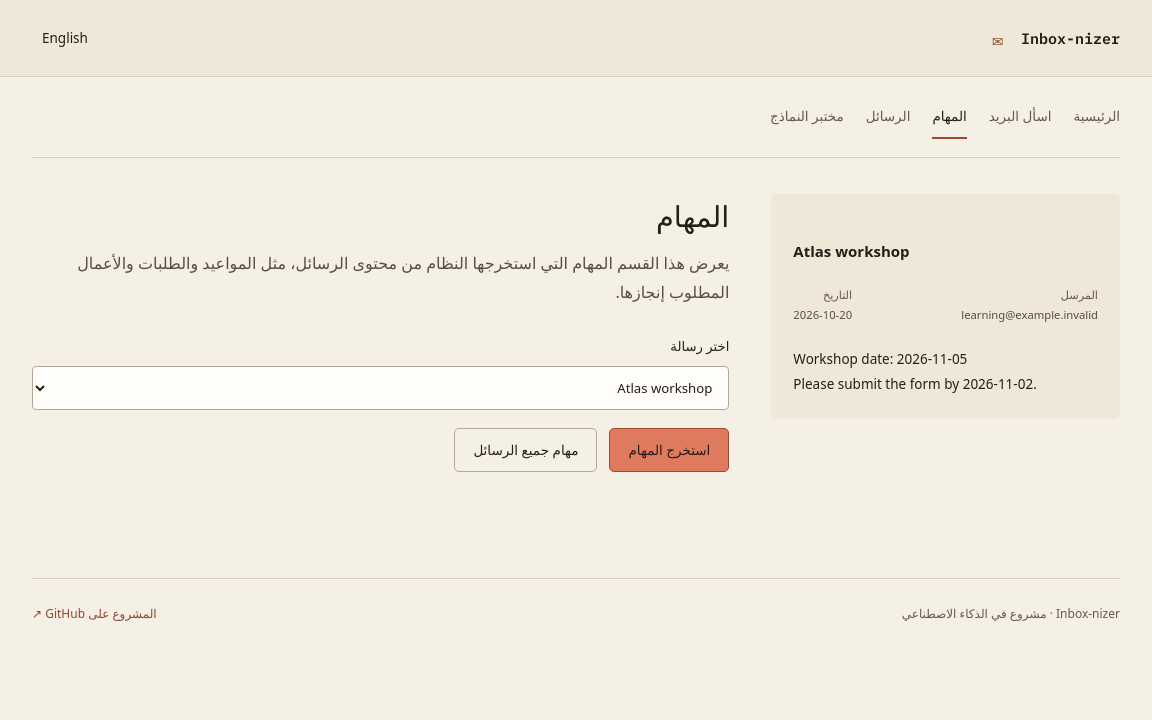
Arabic labels and RTL remain consistent without Gmail requests or reference metadata
Click the button with aria-label "Switch to English" at x=65, y=38, box 32,16 -> 98,60
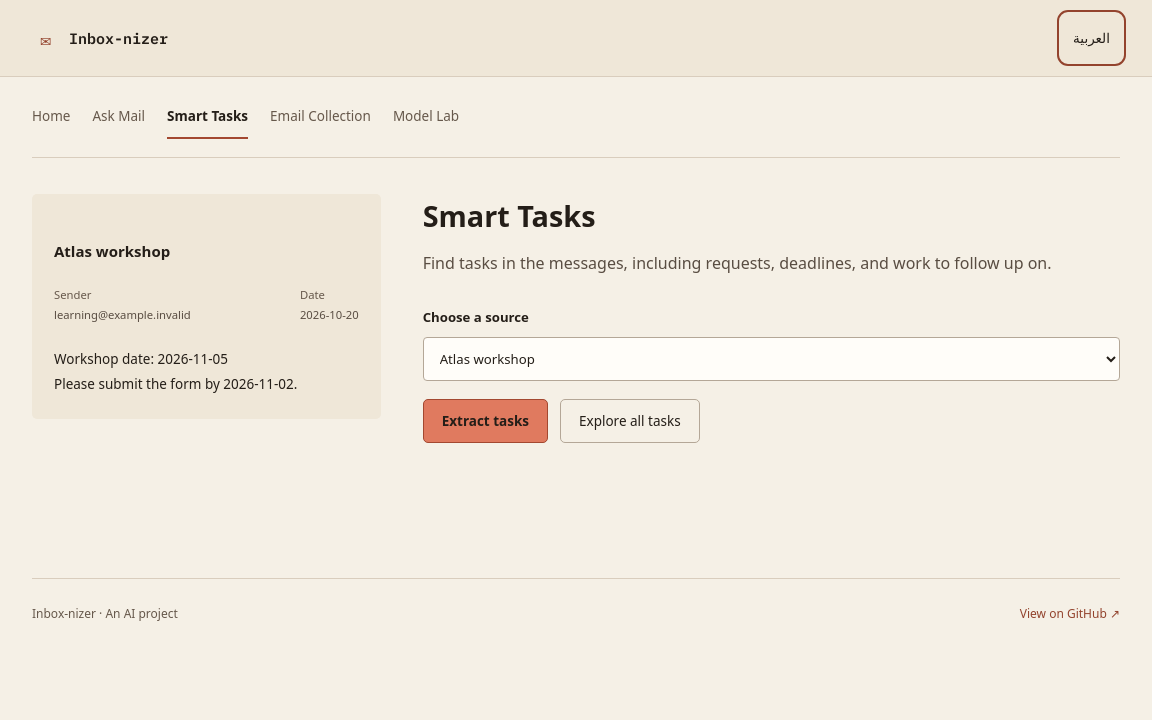
Expected: the dropdown labelled "Choose a source" is shown, 423,337 -> 1120,381
Click the button with aria-label "التبديل للعربية" at x=1092, y=38, box 1063,16 -> 1120,60
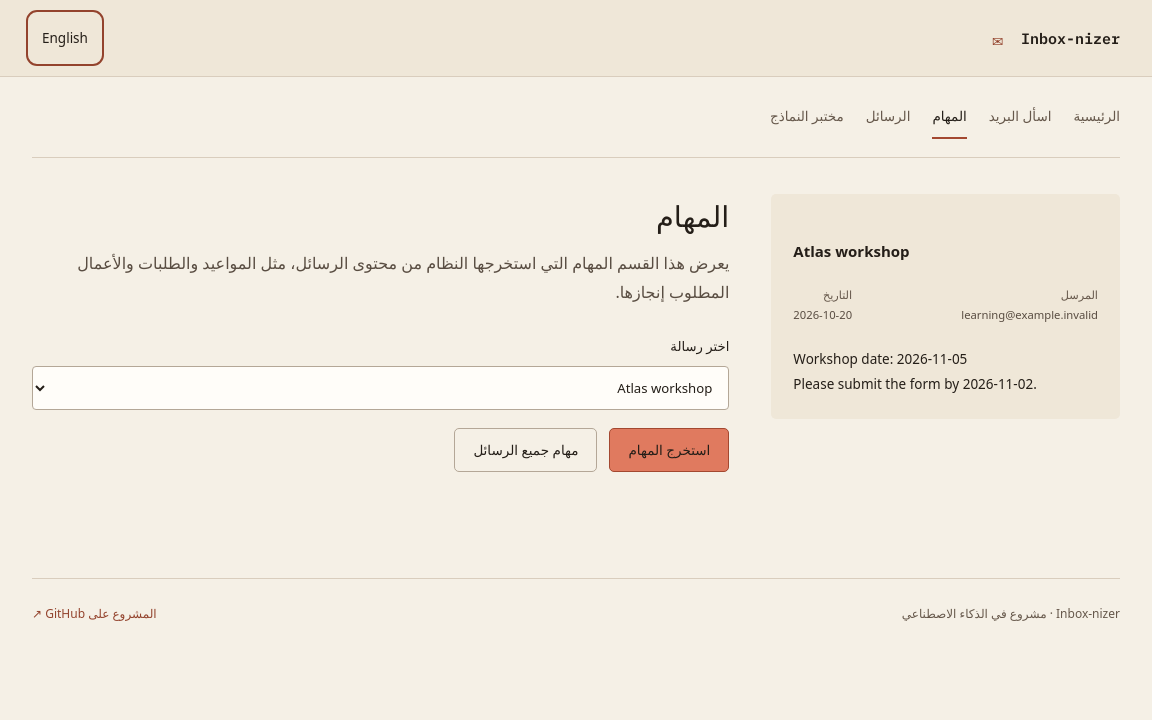
Expected: the dropdown labelled "اختر رسالة" is shown, 32,366 -> 729,410
Expected: the heading "المهام" is shown, 656,196 -> 729,235
